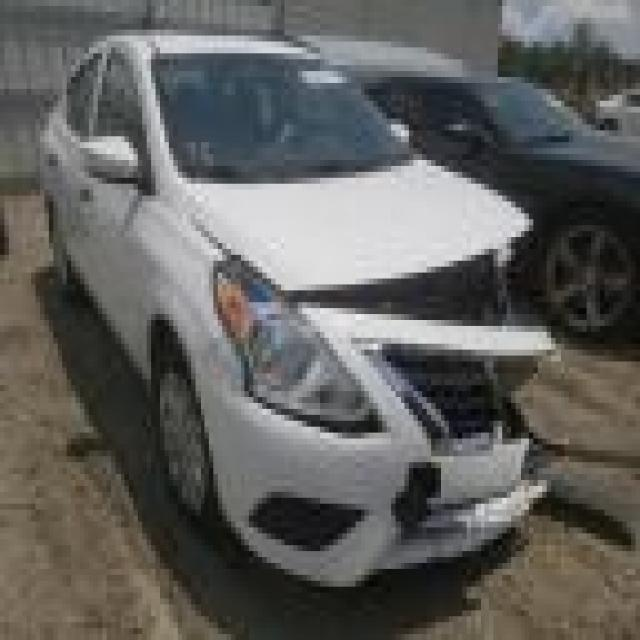severe: (230, 224, 591, 532)
